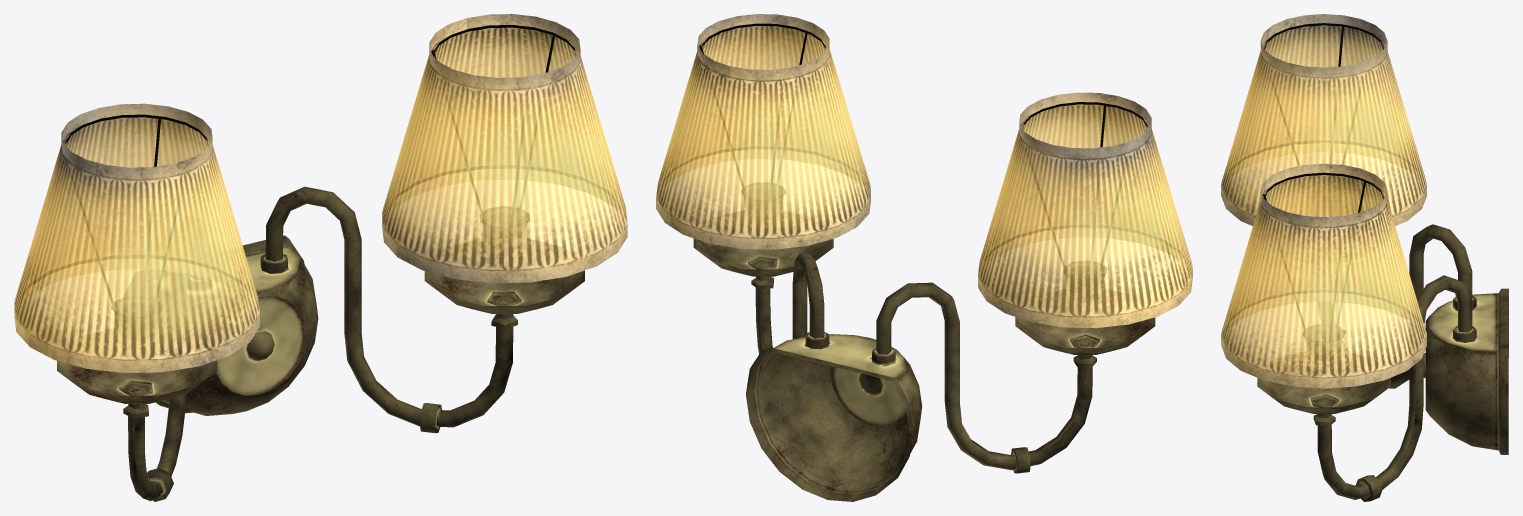
File: wall_light.glb
3 views of the same model, side by side, from view 1: azimuth 30°, elevation 25°; view 2: azimuth 150°, elevation 25°; view 3: azimuth 270°, elevation 25° (orthographic). The views are drawn at different scales.
Visible parts, largest first — view 1: WallLight; view 2: WallLight; view 3: WallLight.
Part boxes in pixels (left/top/right/bottom): WallLight: left=14, top=14, right=627, bottom=501; WallLight: left=656, top=14, right=1192, bottom=501; WallLight: left=1221, top=14, right=1508, bottom=501.
Size of the model in its own units: 96.99 by 63.37 by 49.85.
1 material, 1 textured.
